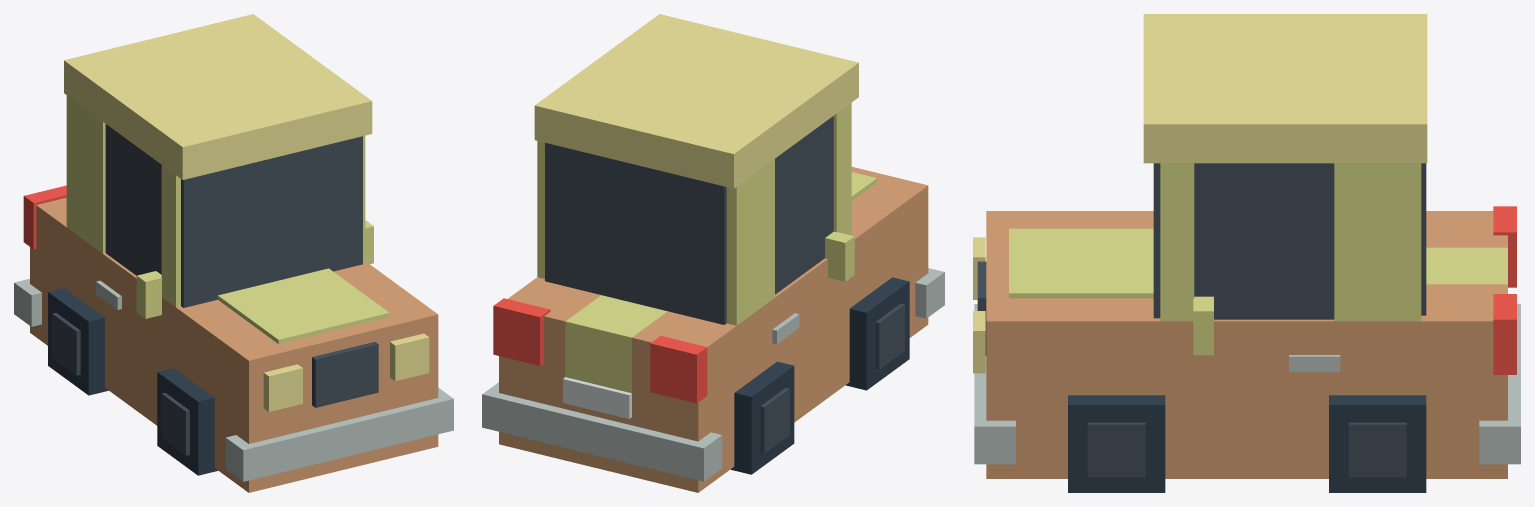
File: Car_Yellow.fbx
The picture shows the model from 3 angles, left to right: view 1: azimuth 30°, elevation 25°; view 2: azimuth 150°, elevation 25°; view 3: azimuth 270°, elevation 25°; orthographic projection. The views are drawn at different scales.
Parts seen in each view (by area): view 1: polySurface100; view 2: polySurface100; view 3: polySurface100.
Boxes of the visible parts, x1,y1,x2,y2 form: polySurface100: (14, 14, 453, 492); polySurface100: (482, 14, 944, 492); polySurface100: (973, 14, 1520, 492).
Size of the model in its own units: 3.68 by 4.56 by 6.3.
